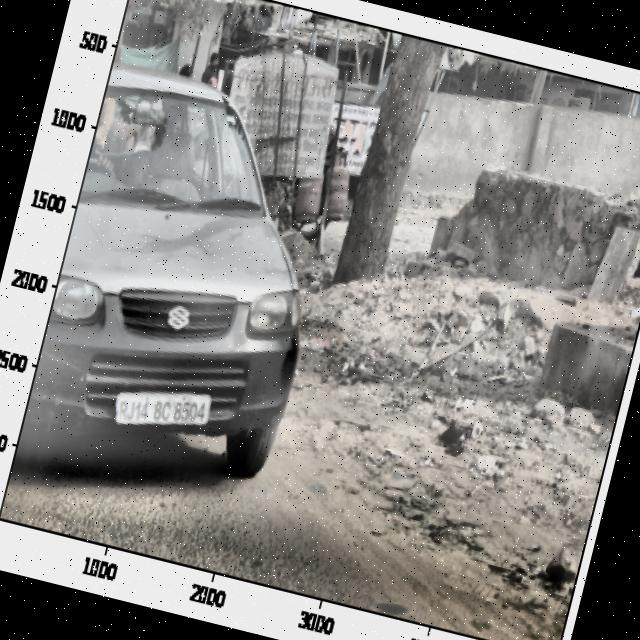license_plate: (112, 376, 211, 443)
